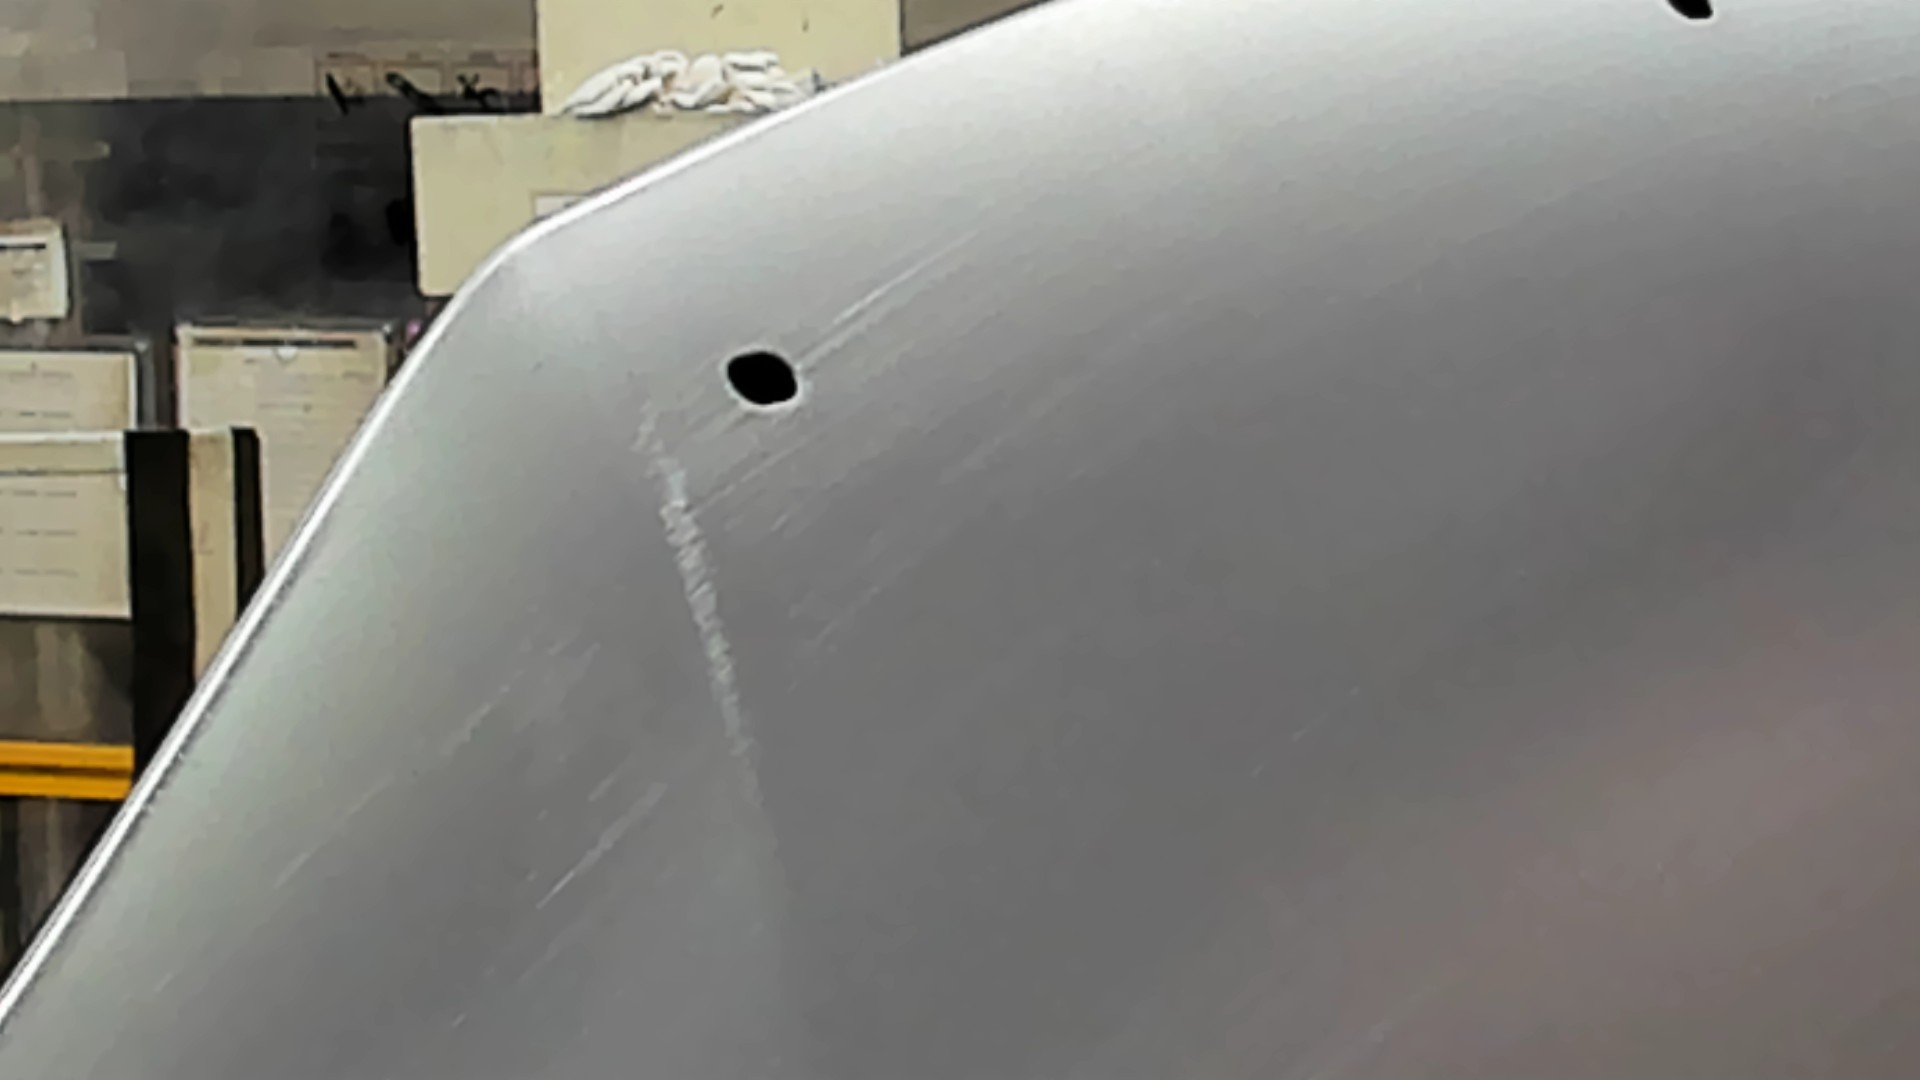amorfo: (713, 342, 814, 419), (1658, 1, 1724, 29)
